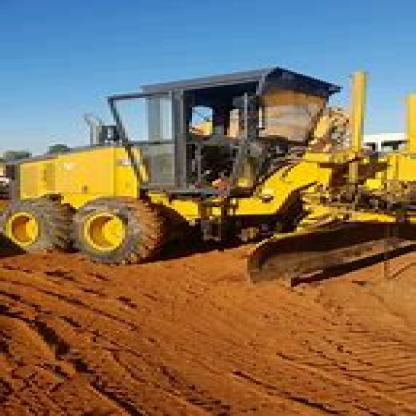bull_dozer/loader/grader: (0, 48, 413, 287)
